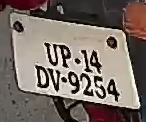1: (81, 48, 93, 72)
2: (79, 73, 95, 97)
4: (105, 77, 120, 104), (88, 49, 104, 73)
5: (92, 76, 108, 101)
9: (67, 70, 82, 98)
D: (33, 65, 51, 92)
P: (58, 41, 73, 69)
U: (44, 42, 61, 68)
V: (50, 68, 63, 93)
